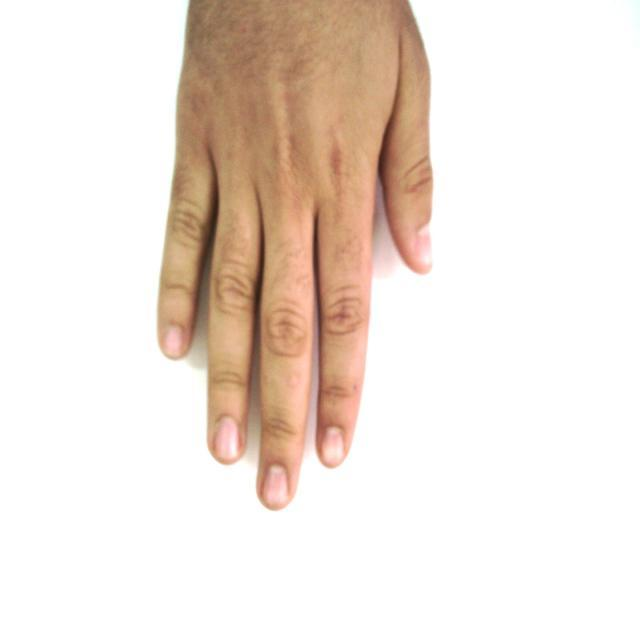Fingernail: (215, 418, 240, 460), (265, 464, 288, 507), (323, 428, 344, 465), (165, 327, 185, 356), (416, 230, 432, 263)
